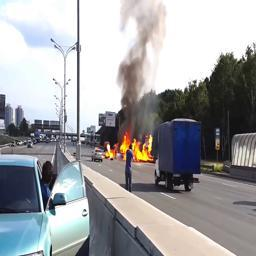fire: (107, 130, 154, 161)
